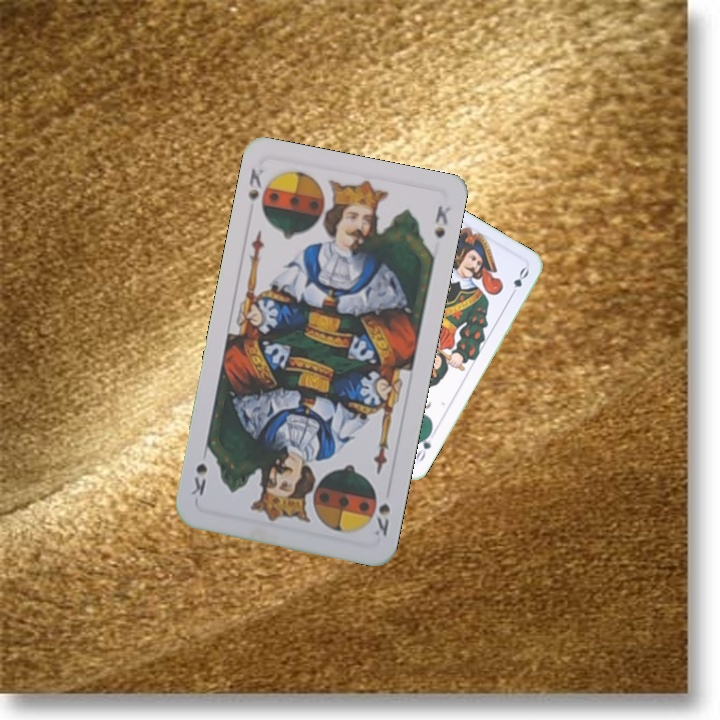GO: (411, 427, 434, 465)
SK: (244, 164, 272, 218), (370, 499, 393, 539)
